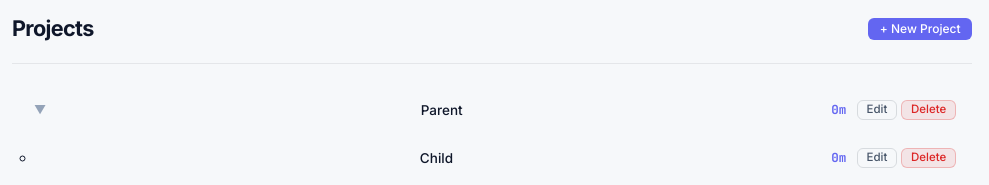
ProjectsPage › collapse button toggles subproject visibility
The image size is (989, 185).
Expected: the button with test id "project-name-21" is shown, [52, 150, 821, 166]
Click the button with test id "collapse-btn-20".
click(40, 110)  # box [28, 100, 52, 119]
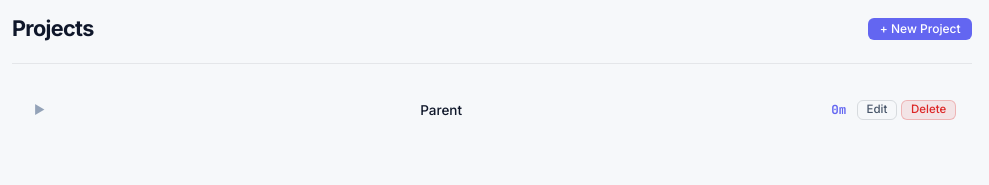
Result: the button with test id "project-name-21" is gone
Click the button with test id "collapse-btn-20".
click(40, 110)  # box [28, 100, 51, 119]
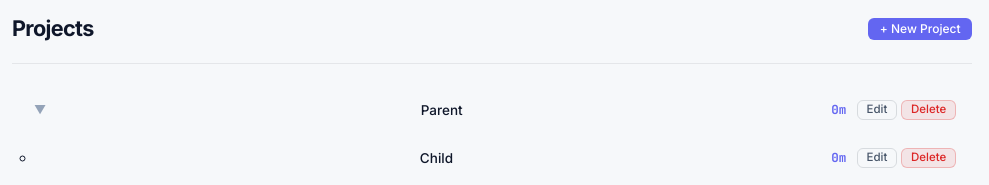
Result: the button with test id "project-name-21" is shown at [52, 150, 821, 166]
